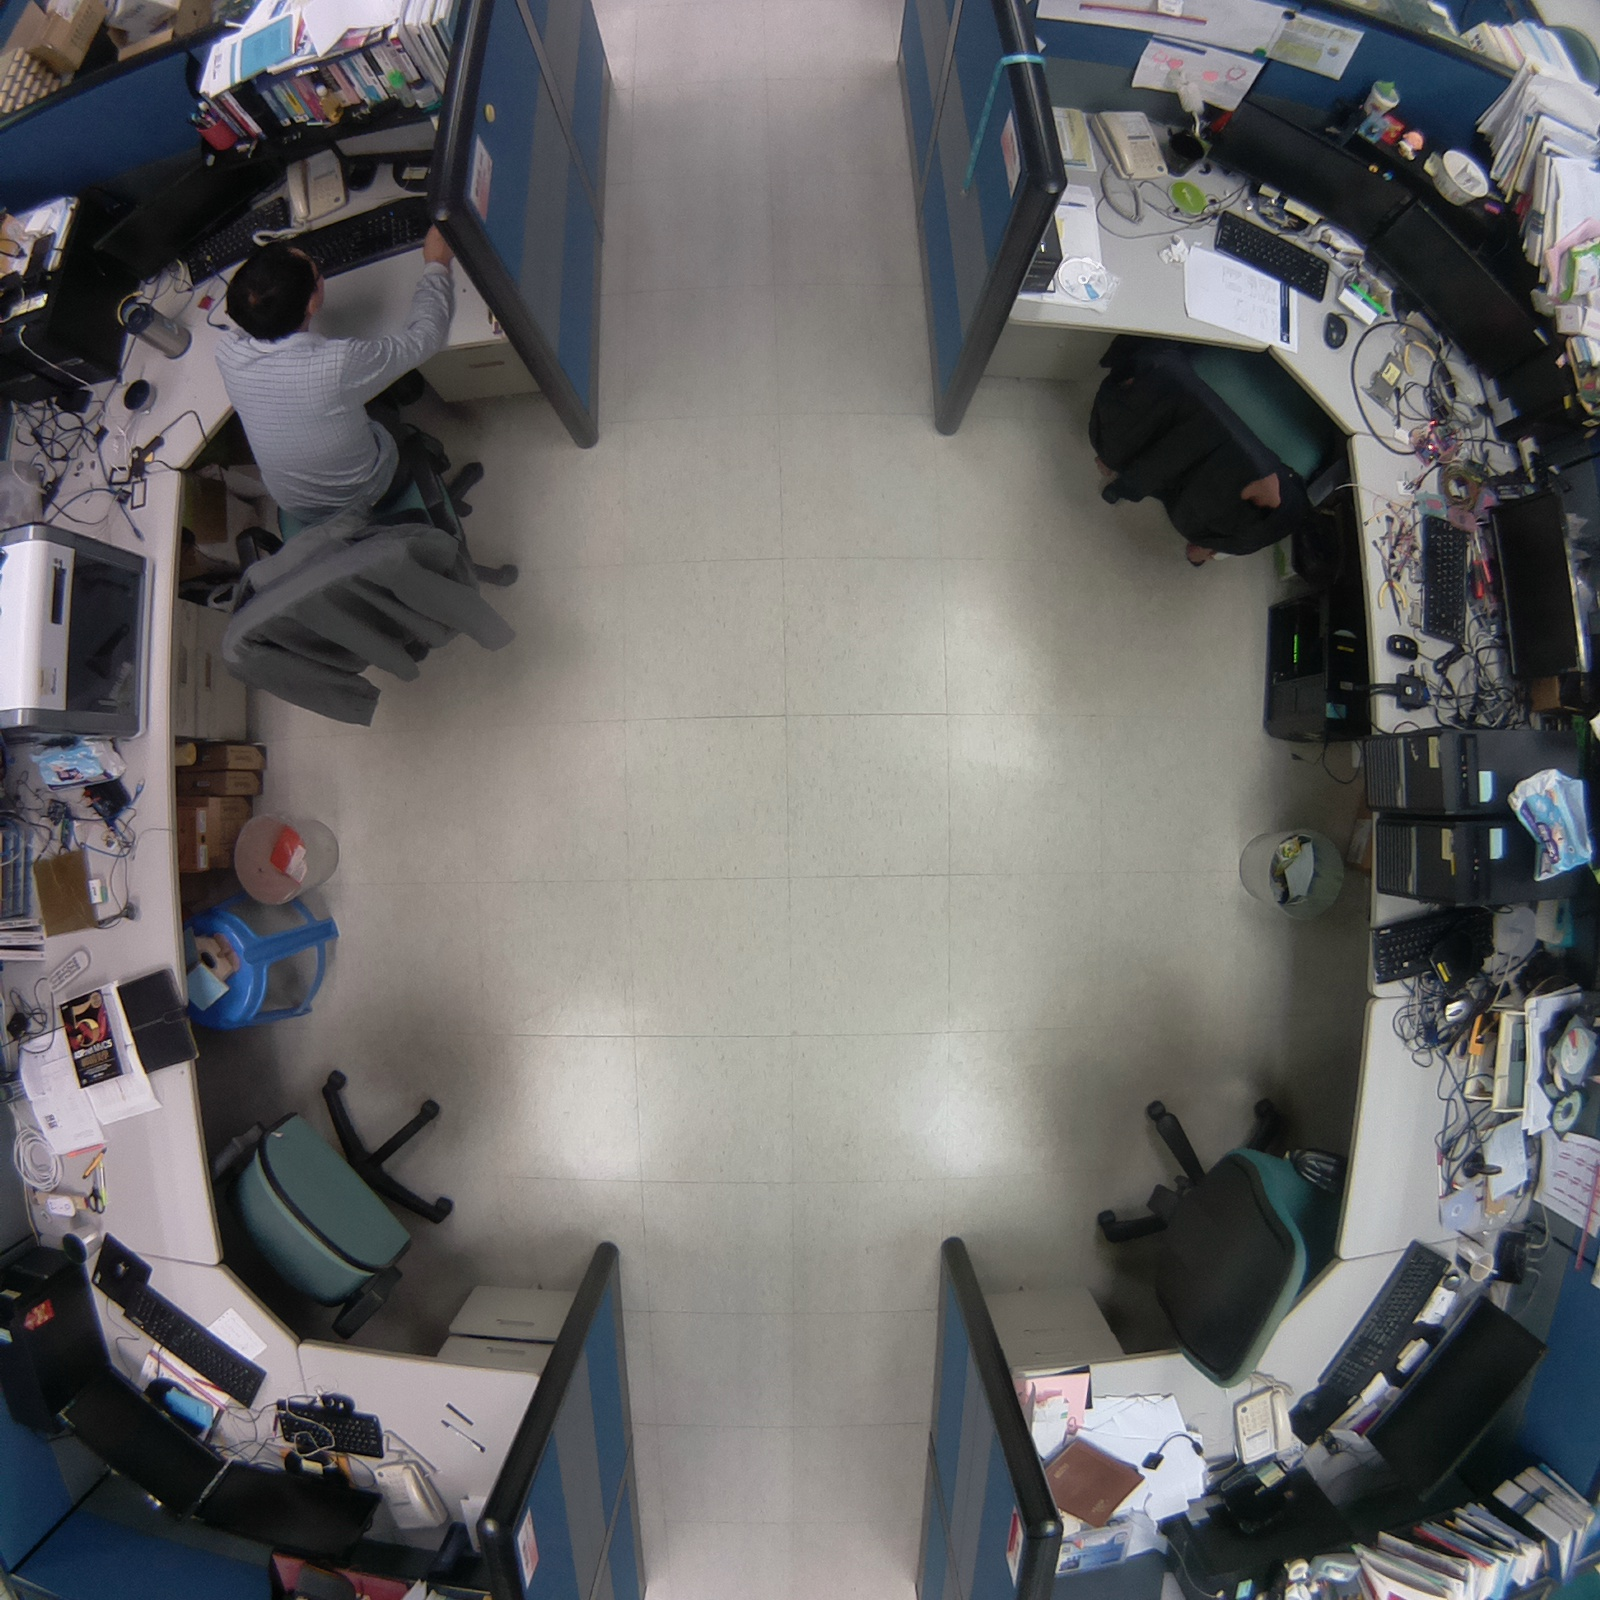chair: (1068, 1075, 1355, 1399), (1060, 306, 1368, 586), (191, 1052, 491, 1334)
head: (215, 238, 329, 344)
sitting: (204, 229, 540, 755)
